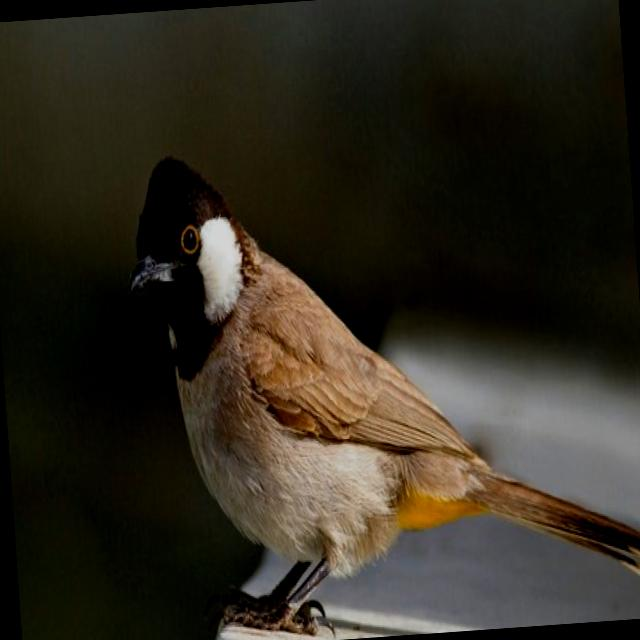bird: (117, 116, 640, 640)
